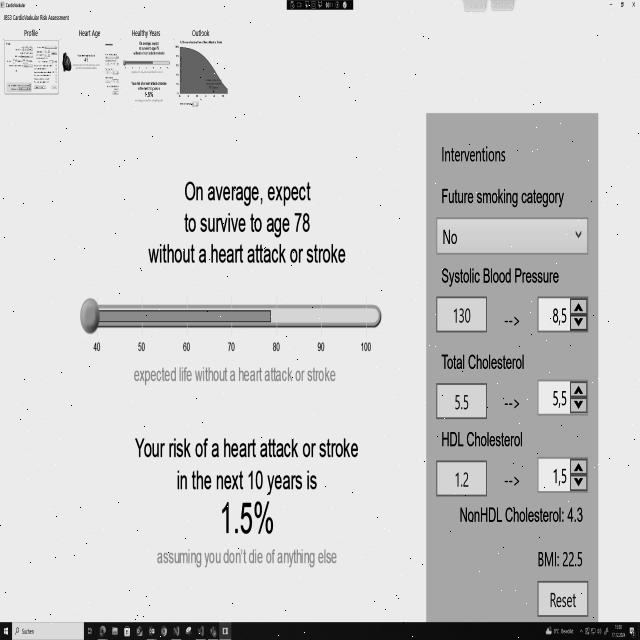button: (532, 576, 592, 618), (433, 456, 489, 500), (434, 380, 490, 423), (436, 293, 490, 336), (616, 0, 628, 15), (628, 0, 640, 15), (605, 0, 616, 13)
dropdownMenu: (435, 213, 590, 261)
input: (12, 623, 84, 640)
label: (456, 502, 590, 538), (436, 179, 571, 211), (436, 339, 529, 376), (440, 266, 559, 292), (438, 425, 528, 454), (437, 140, 516, 166), (534, 540, 586, 573), (2, 12, 71, 24), (498, 464, 525, 492), (498, 391, 522, 412), (129, 26, 164, 40), (499, 310, 523, 330), (187, 22, 216, 38), (74, 24, 104, 38), (20, 26, 45, 38)
upDown: (536, 453, 593, 499), (536, 296, 593, 339), (535, 376, 589, 420)
